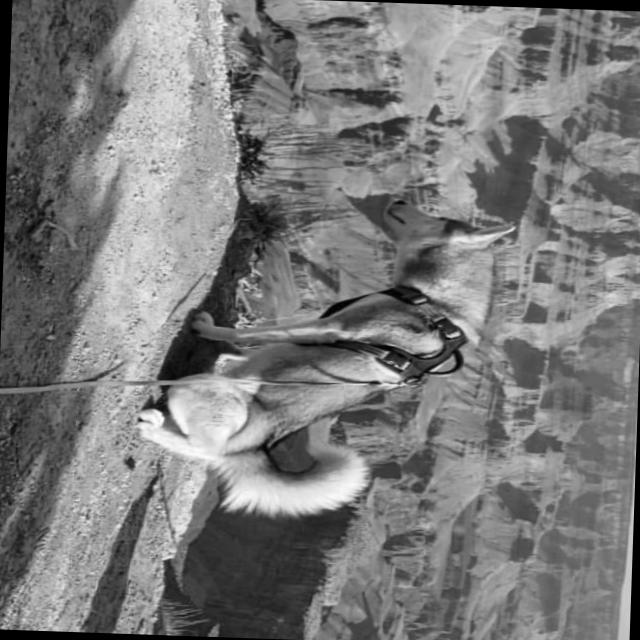squatting: (124, 186, 523, 528)
